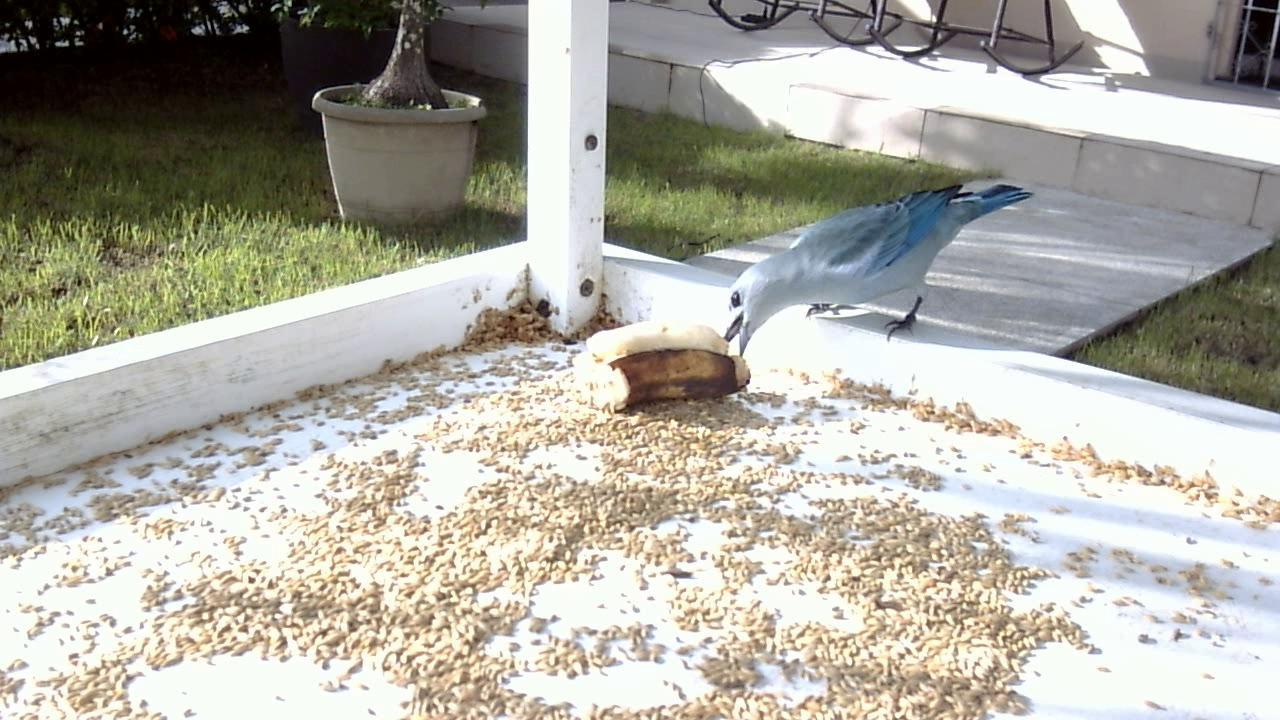sanhaco_da_amazonia: (701, 154, 1041, 379)
